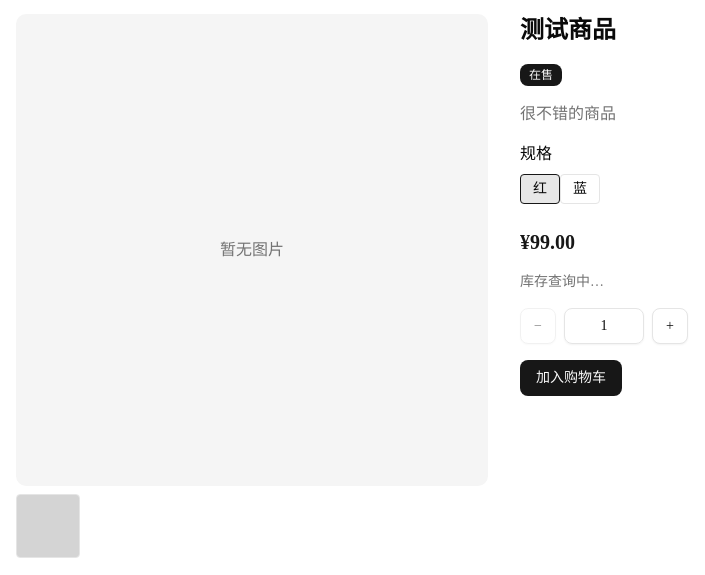
ProductDetailPage › selecting another sku reloads inventory
The width and height of the screenshot is (705, 575).
Expected: the heading "测试商品" is shown, [520,17,616,43]
Click the button "蓝" at x=580, y=189, box [560,174,600,204]
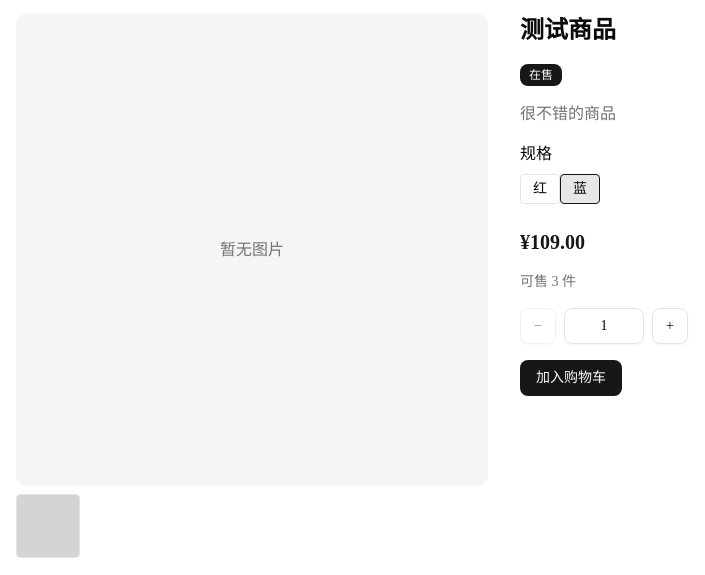
Expected: the text "可售 3 件" is shown, [520,274,576,289]
